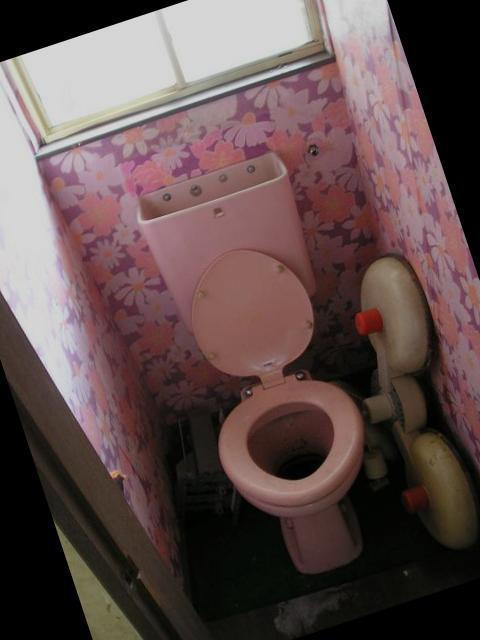Sanitario: (132, 147, 440, 606)
